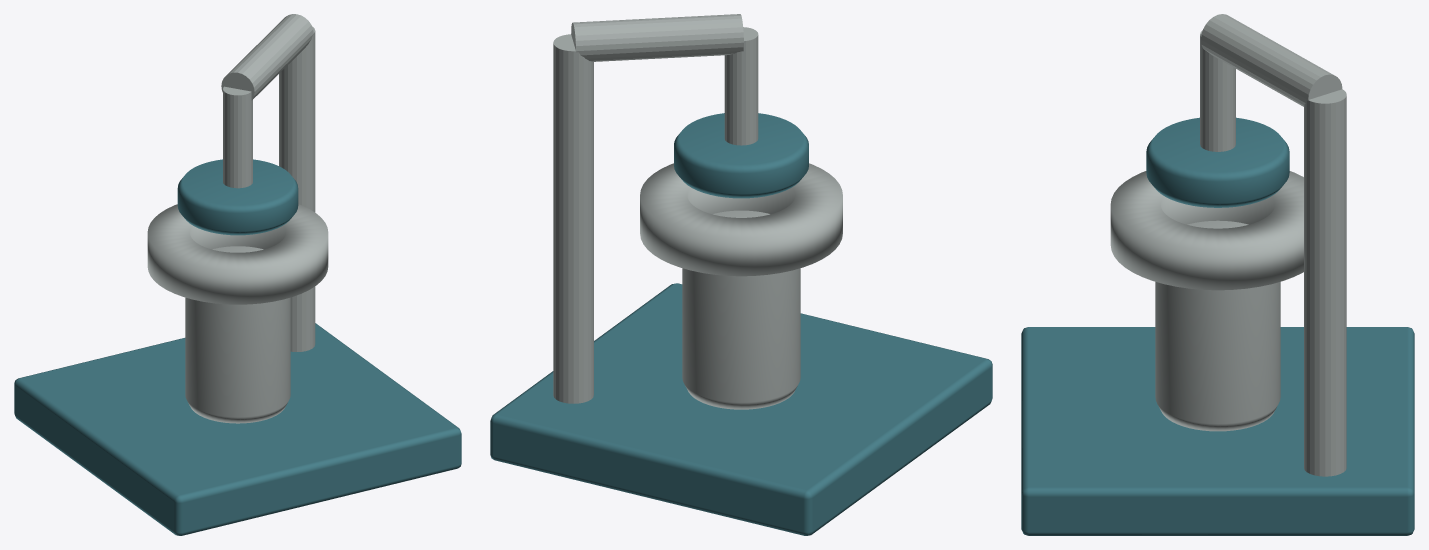
File: optician-and-optical-lens-workshop-optician-and-optica-f0949b93__31693.glb
3 renders of one model, left to right at view 1: azimuth 30°, elevation 25°; view 2: azimuth 150°, elevation 25°; view 3: azimuth 270°, elevation 25°, orthographic. The views are drawn at different scales.
Parts seen in each view (by area): view 1: optician-and-optical-lens-workshop-lens-blocking-jig; view 2: optician-and-optical-lens-workshop-lens-blocking-jig; view 3: optician-and-optical-lens-workshop-lens-blocking-jig.
Boxes of the visible parts, x1,y1,x2,y2 form: optician-and-optical-lens-workshop-lens-blocking-jig: (14,14,461,535); optician-and-optical-lens-workshop-lens-blocking-jig: (490,14,992,535); optician-and-optical-lens-workshop-lens-blocking-jig: (1021,14,1414,535).
Bounding box in the file's own units: 0.22 × 0.272 × 0.22.
